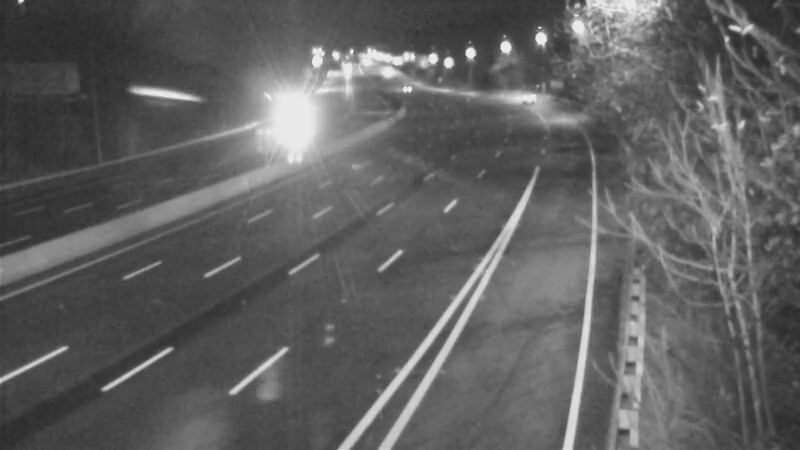vehicle: (379, 65, 429, 115), (501, 75, 551, 125), (260, 92, 310, 142)
